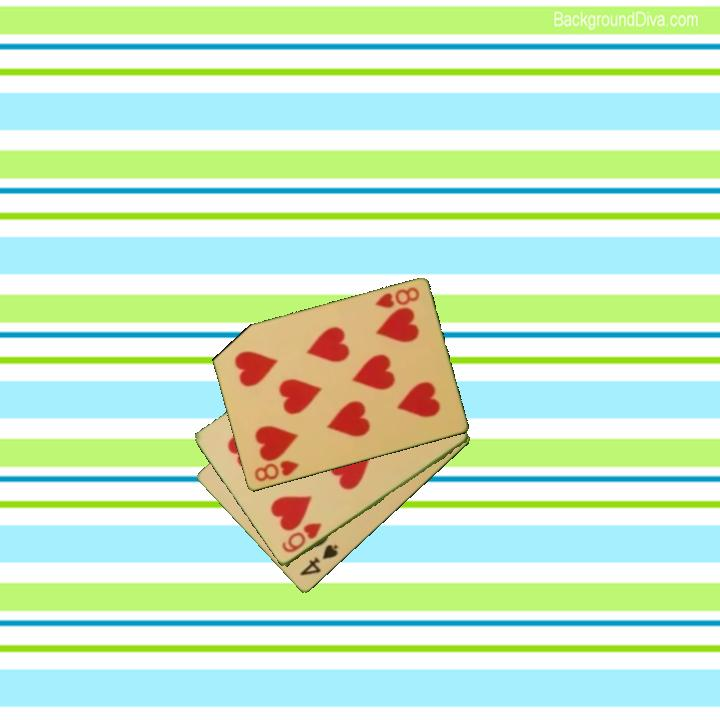4s: (296, 541, 341, 579)
6h: (278, 519, 325, 556)
8h: (251, 457, 302, 485), (371, 284, 422, 312)
